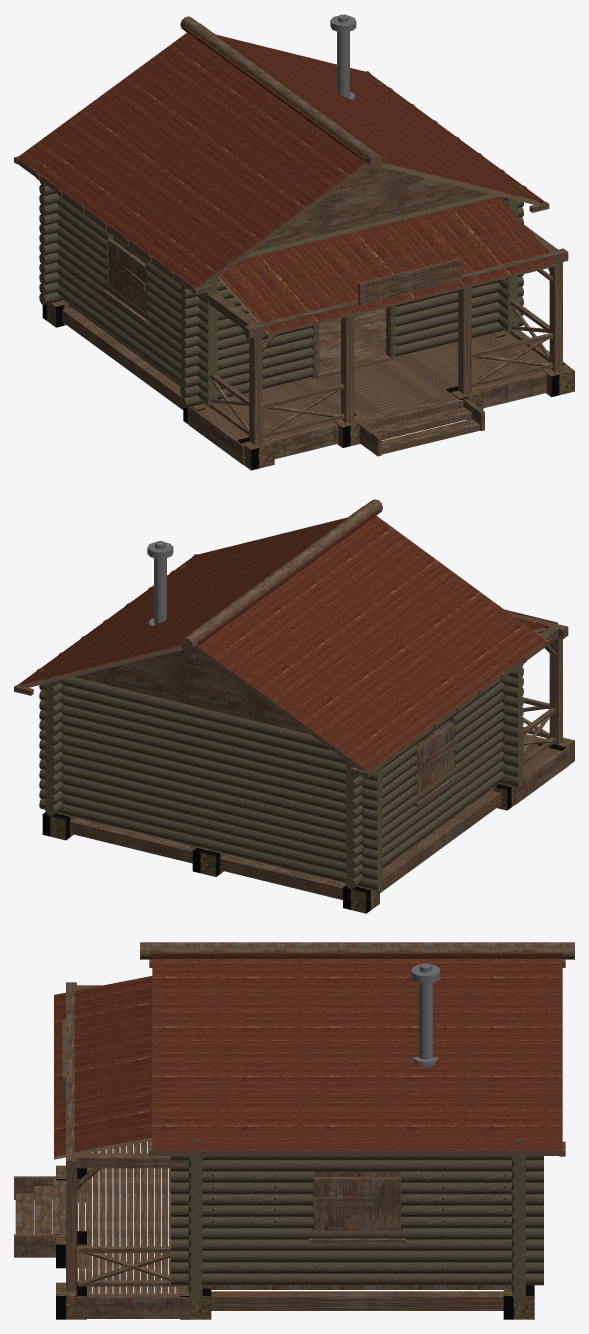
File: cabin_ranger_station.glb
3 views of the same model, one above another, from view 1: azimuth 30°, elevation 25°; view 2: azimuth 150°, elevation 25°; view 3: azimuth 270°, elevation 25° (orthographic). The views are drawn at different scales.
Parts seen in each view (by area): view 1: CabinRangerStation; view 2: CabinRangerStation; view 3: CabinRangerStation.
Boxes of the visible parts, box(x1,y1,x2,y2) form: CabinRangerStation: box(14, 14, 574, 470); CabinRangerStation: box(14, 499, 574, 913); CabinRangerStation: box(14, 942, 574, 1319).
Size of the model in its own units: 7.54 by 5.58 by 9.03.
6 materials, 4 textured.
